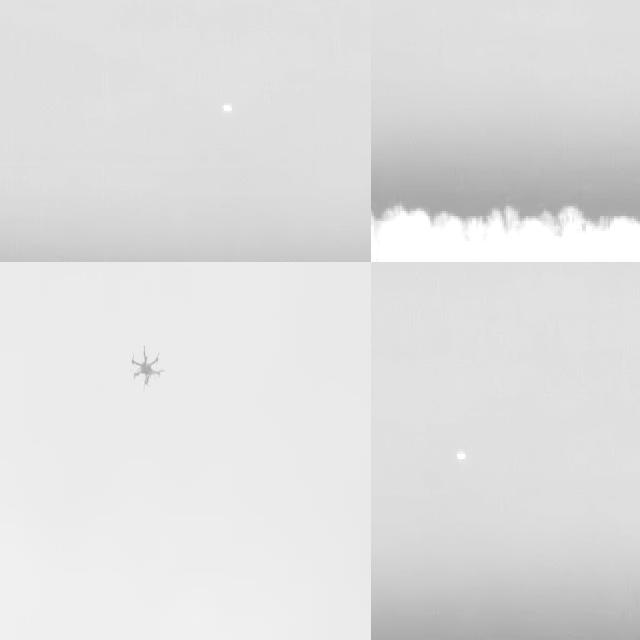1: (211, 98, 237, 126), (447, 444, 471, 469)
drone: (128, 342, 166, 394)
